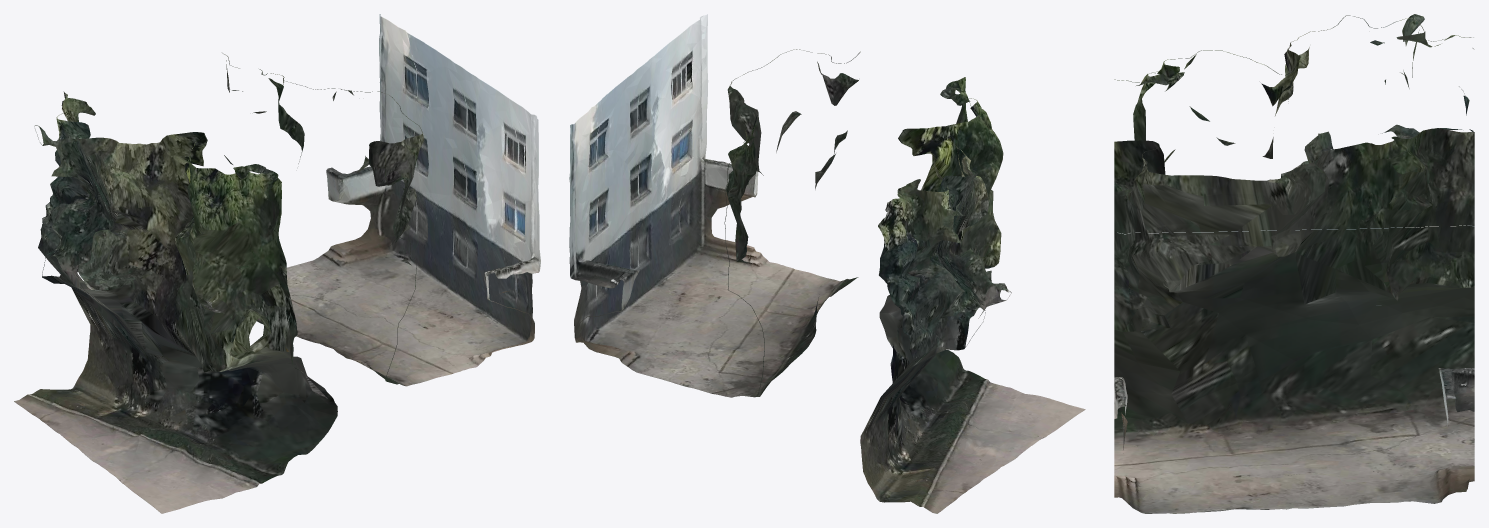
The model's file is BlockBBYX_L21_29.glb.
3 views of the same model, side by side, from view 1: azimuth 30°, elevation 25°; view 2: azimuth 150°, elevation 25°; view 3: azimuth 270°, elevation 25° (orthographic). The views are drawn at different scales.
Parts seen in each view (by area): view 1: rtc; view 2: rtc; view 3: rtc.
Boxes of the visible parts, x1=… form: rtc: x1=14, y1=14, x2=540, y2=513; rtc: x1=569, y1=14, x2=1085, y2=513; rtc: x1=1114, y1=14, x2=1474, y2=513.
Bounding box in the file's own units: 17.43 × 13.18 × 11.67.
Materials: 5 (5 with a texture image).
